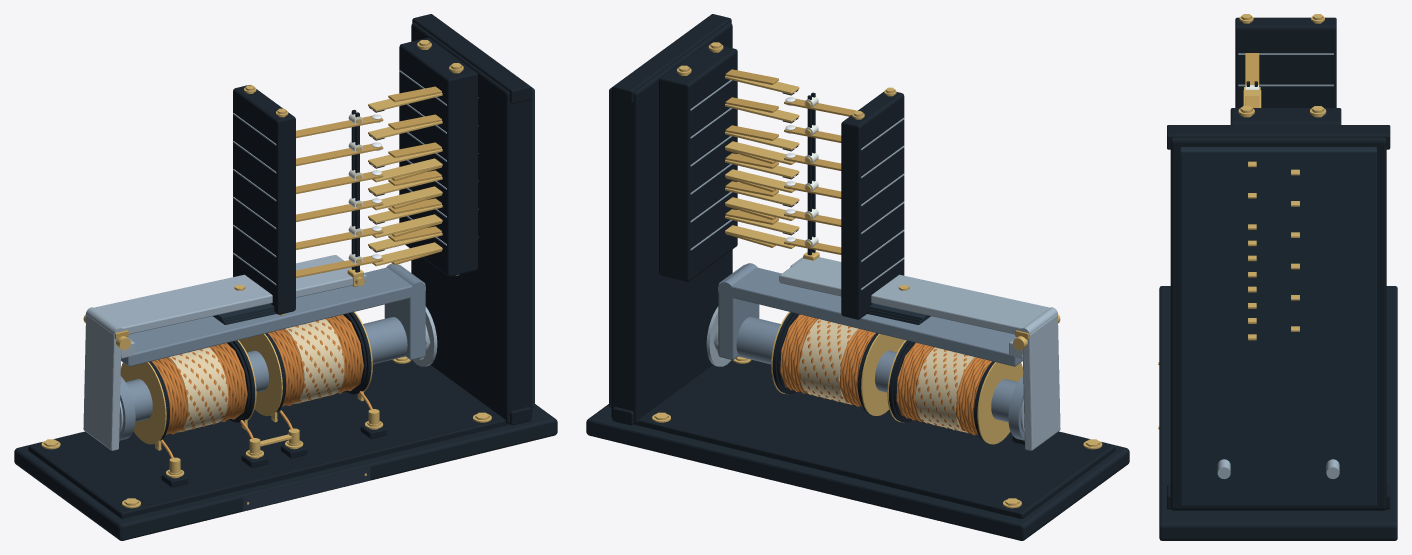
File: JZXC-480-dropped.glb
3 renders of one model, left to right at view 1: azimuth 30°, elevation 25°; view 2: azimuth 150°, elevation 25°; view 3: azimuth 270°, elevation 25°, orthographic. The views are drawn at different scales.
Parts seen in each view (by area): view 1: base (×6), contactBlock (×2), coil (×6), armature (×2), yoke (×2), core, back (×3), pole; view 2: base (×5), contactBlock (×2), coil (×6), armature (×2), yoke (×2), core, back (×2), pole; view 3: base (×4), contactBlock (×2), common.
Part boxes in pixels (x1,y1,x2,y2): base (×6): [14, 14, 557, 540]; contactBlock (×2): [233, 38, 477, 314]; coil (×6): [120, 314, 363, 444]; armature (×2): [83, 255, 364, 450]; yoke (×2): [121, 264, 425, 366]; core: [125, 317, 407, 422]; back (×3): [372, 158, 442, 266]; pole: [119, 376, 135, 440]; base (×5): [586, 14, 1129, 540]; contactBlock (×2): [659, 42, 904, 319]; coil (×6): [780, 314, 1023, 444]; armature (×2): [779, 257, 1060, 450]; yoke (×2): [718, 264, 1022, 366]; core: [736, 317, 1018, 422]; back (×2): [725, 197, 795, 248]; pole: [1008, 376, 1024, 440]; base (×4): [1159, 125, 1397, 540]; contactBlock (×2): [1230, 17, 1341, 124]; common: [1245, 53, 1259, 86].
Bounding box in the file's own units: 6.05 × 4.73 × 2.55.
